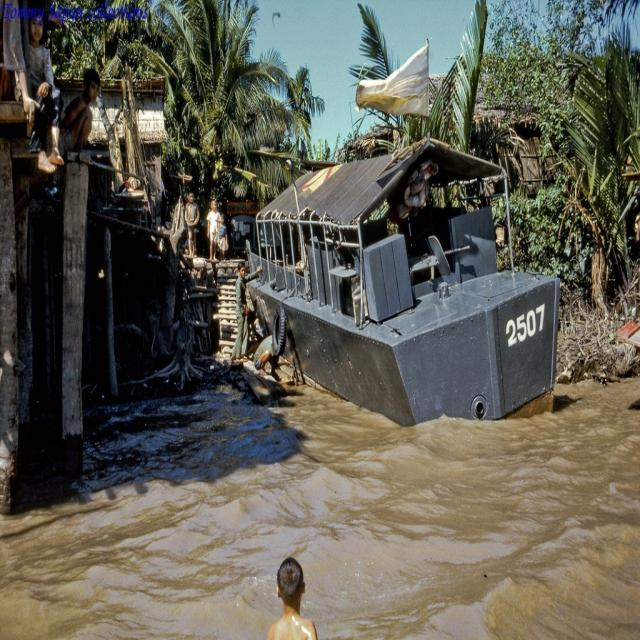Boat: (230, 94, 581, 408)
